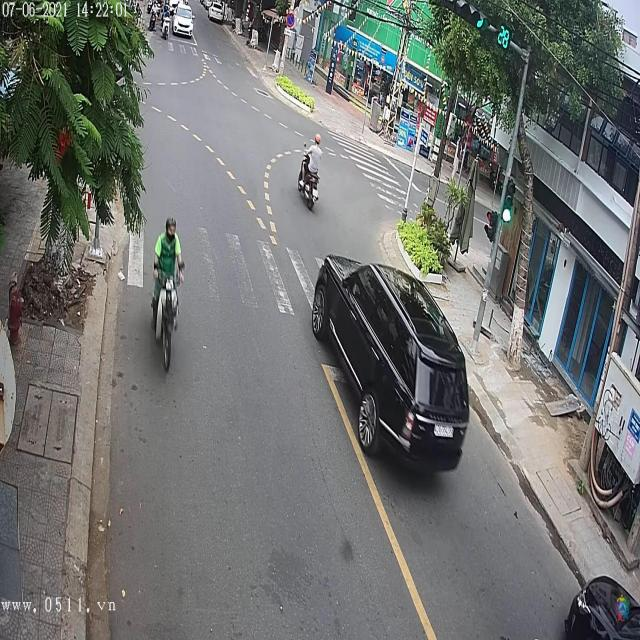car: (310, 256, 470, 473), (170, 6, 192, 38), (210, 4, 227, 23)
motorcycle: (153, 273, 184, 374), (299, 157, 321, 212)
